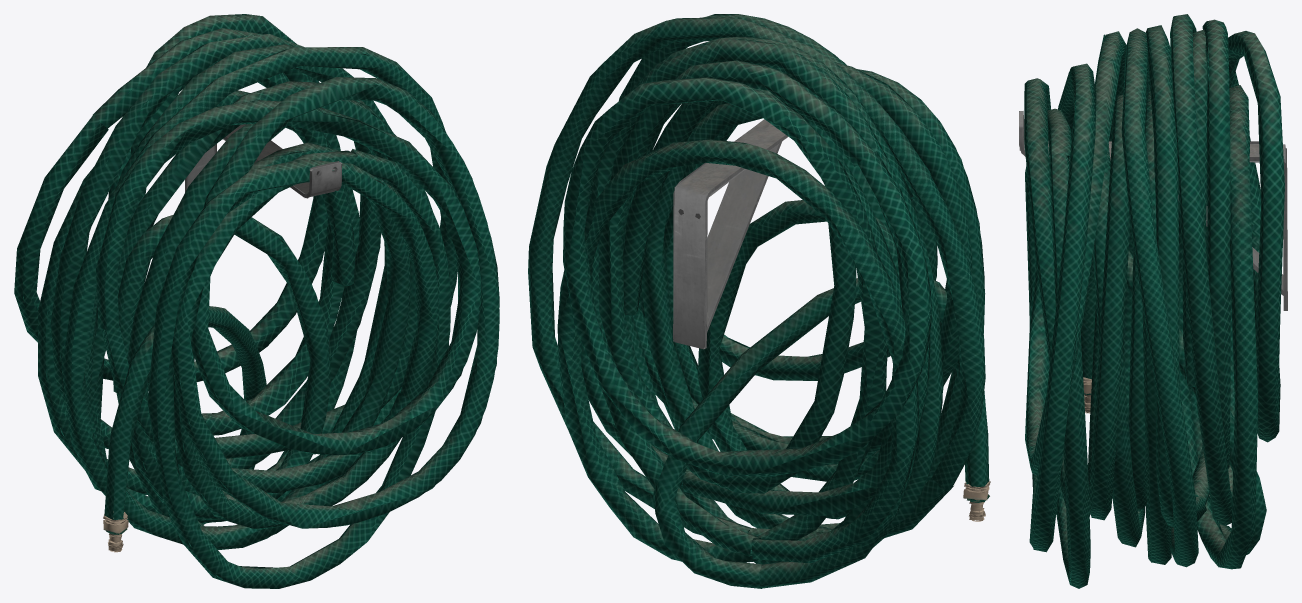
Rendered from garden_hose_wall_mounted_01_1k.gltf.
3 renders of one model, left to right at view 1: azimuth 30°, elevation 25°; view 2: azimuth 150°, elevation 25°; view 3: azimuth 270°, elevation 25°, orthographic. The views are drawn at different scales.
Parts seen in each view (by area): view 1: garden_hose_wall_bracket; view 2: garden_hose_wall_bracket; view 3: garden_hose_wall_bracket.
Part boxes in pixels (x1,y1,x2,y2): garden_hose_wall_bracket: (14,14,499,588); garden_hose_wall_bracket: (528,14,990,588); garden_hose_wall_bracket: (1019,14,1287,588).
Size of the model in its own units: 0.4682 by 0.5559 by 0.2503.
Materials: 1 (1 with a texture image).
